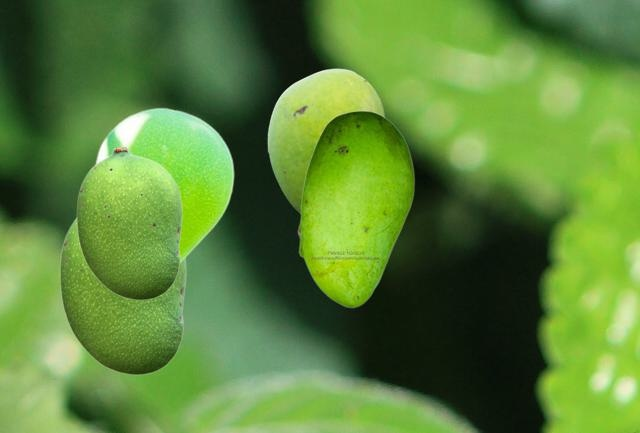green_mango: (297, 110, 414, 307), (94, 107, 233, 264), (59, 218, 185, 374), (267, 68, 384, 213), (76, 146, 181, 299)
